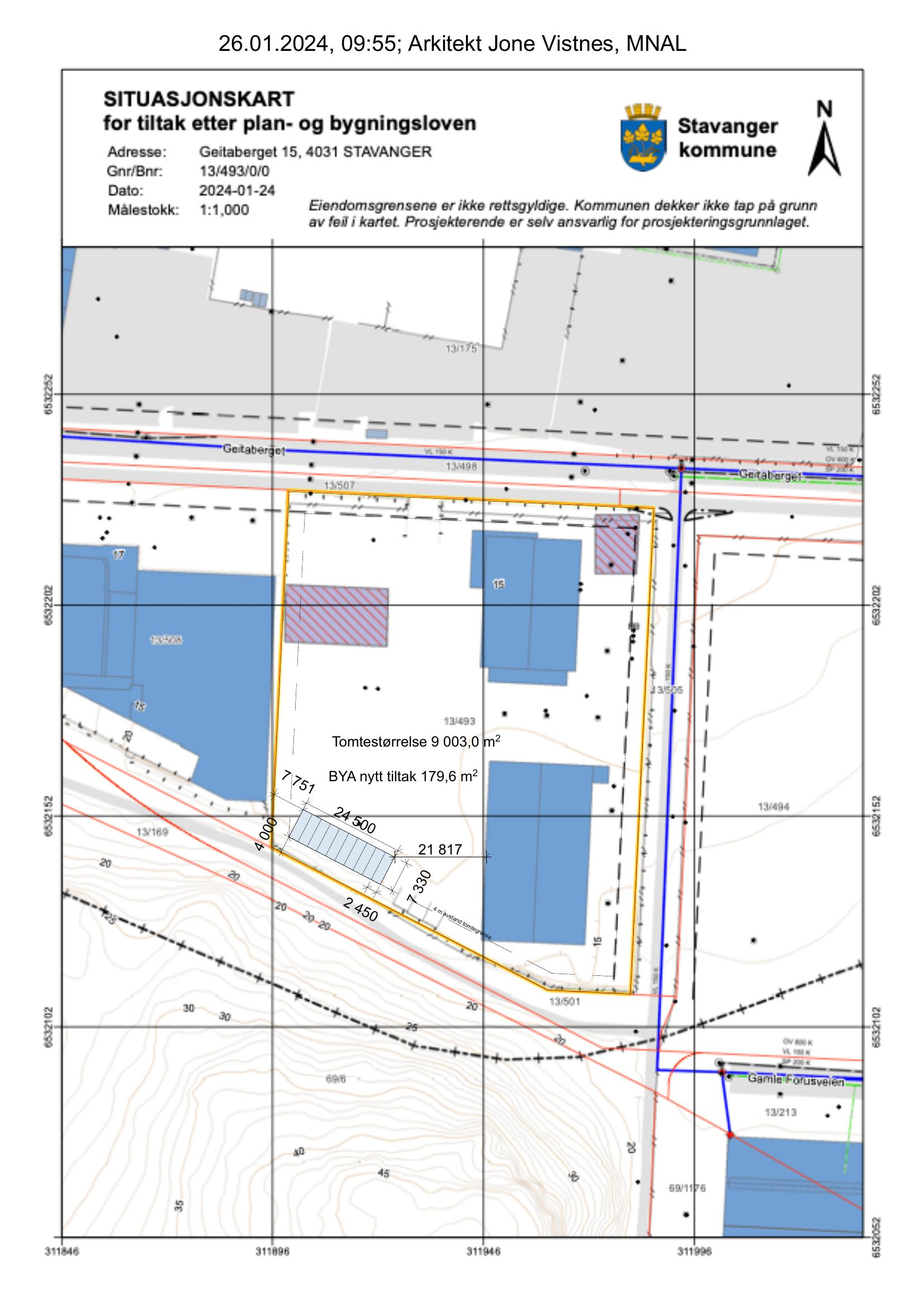situasjonskart: (61, 244, 866, 1238)
